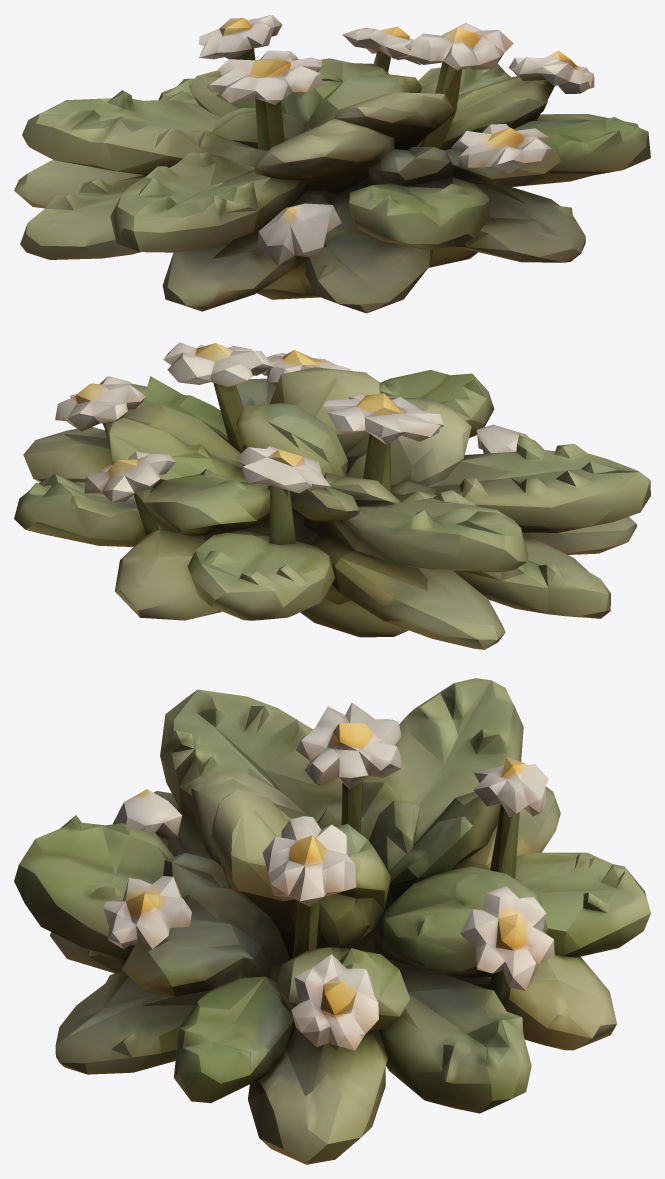
The model's file is moss_flowers.glb.
3 views of the same model, one above another, from view 1: azimuth 30°, elevation 25°; view 2: azimuth 150°, elevation 25°; view 3: azimuth 270°, elevation 25° (orthographic). The views are drawn at different scales.
Parts seen in each view (by area): view 1: tripo_node_65dd1369-8b3e-409f-96cc-bfc266614f90; view 2: tripo_node_65dd1369-8b3e-409f-96cc-bfc266614f90; view 3: tripo_node_65dd1369-8b3e-409f-96cc-bfc266614f90.
Boxes of the visible parts, x1,y1,x2,y2 form: tripo_node_65dd1369-8b3e-409f-96cc-bfc266614f90: (14, 14, 650, 313); tripo_node_65dd1369-8b3e-409f-96cc-bfc266614f90: (14, 342, 650, 649); tripo_node_65dd1369-8b3e-409f-96cc-bfc266614f90: (14, 678, 650, 1164).
Size of the model in its own units: 0.3799 by 0.1207 by 0.271.
Materials: 1 (1 with a texture image).
